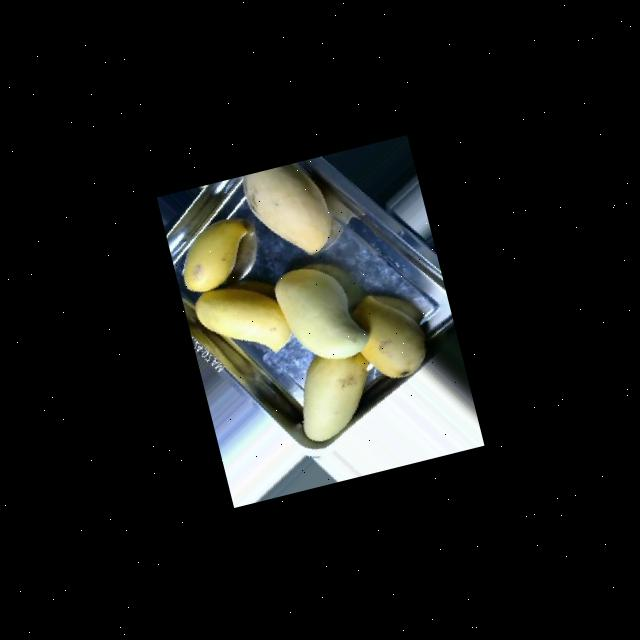Mango: (268, 255, 372, 370), (239, 158, 338, 266), (286, 344, 382, 446), (190, 274, 294, 368), (346, 282, 434, 386), (170, 214, 259, 296)
